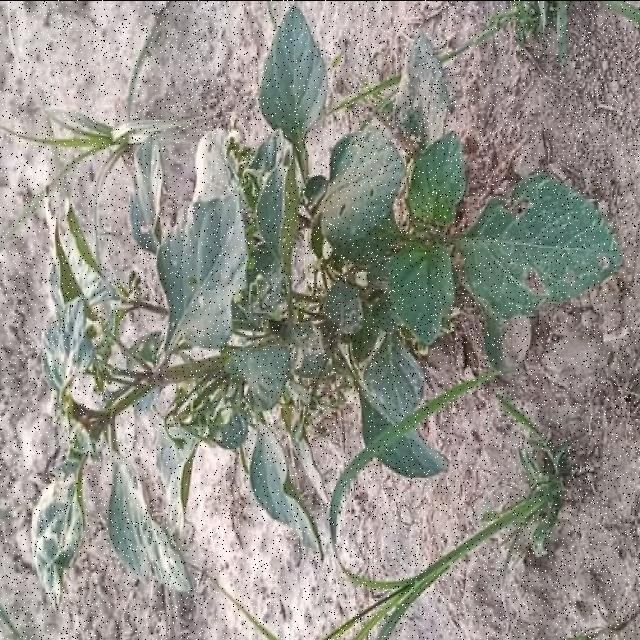weed: (34, 6, 621, 600)
